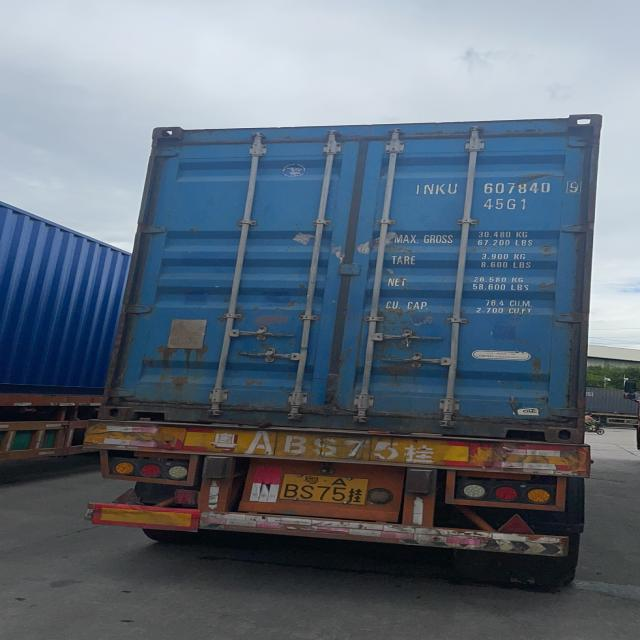seal: (400, 327, 414, 348)
